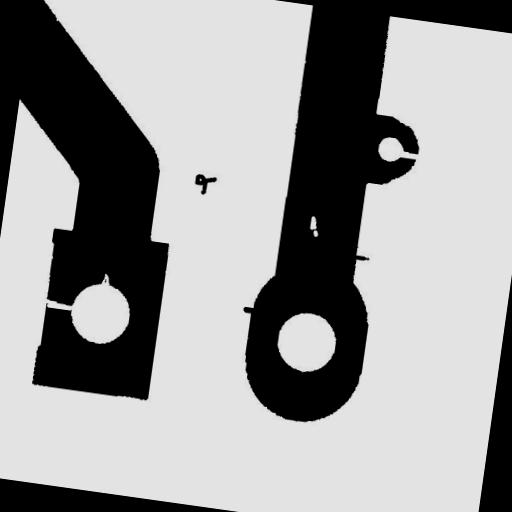copper: (185, 165, 225, 204)
mousebite: (94, 264, 120, 294)
open: (32, 290, 82, 319), (386, 140, 429, 168)
pin-hole: (300, 208, 328, 246)
spur: (234, 298, 265, 324), (345, 246, 378, 269)
